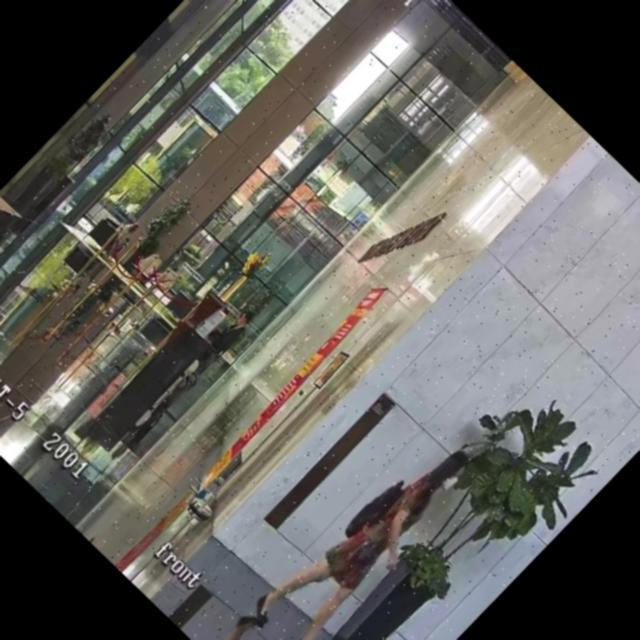person: (240, 416, 491, 640), (194, 302, 256, 366), (96, 216, 142, 264)
